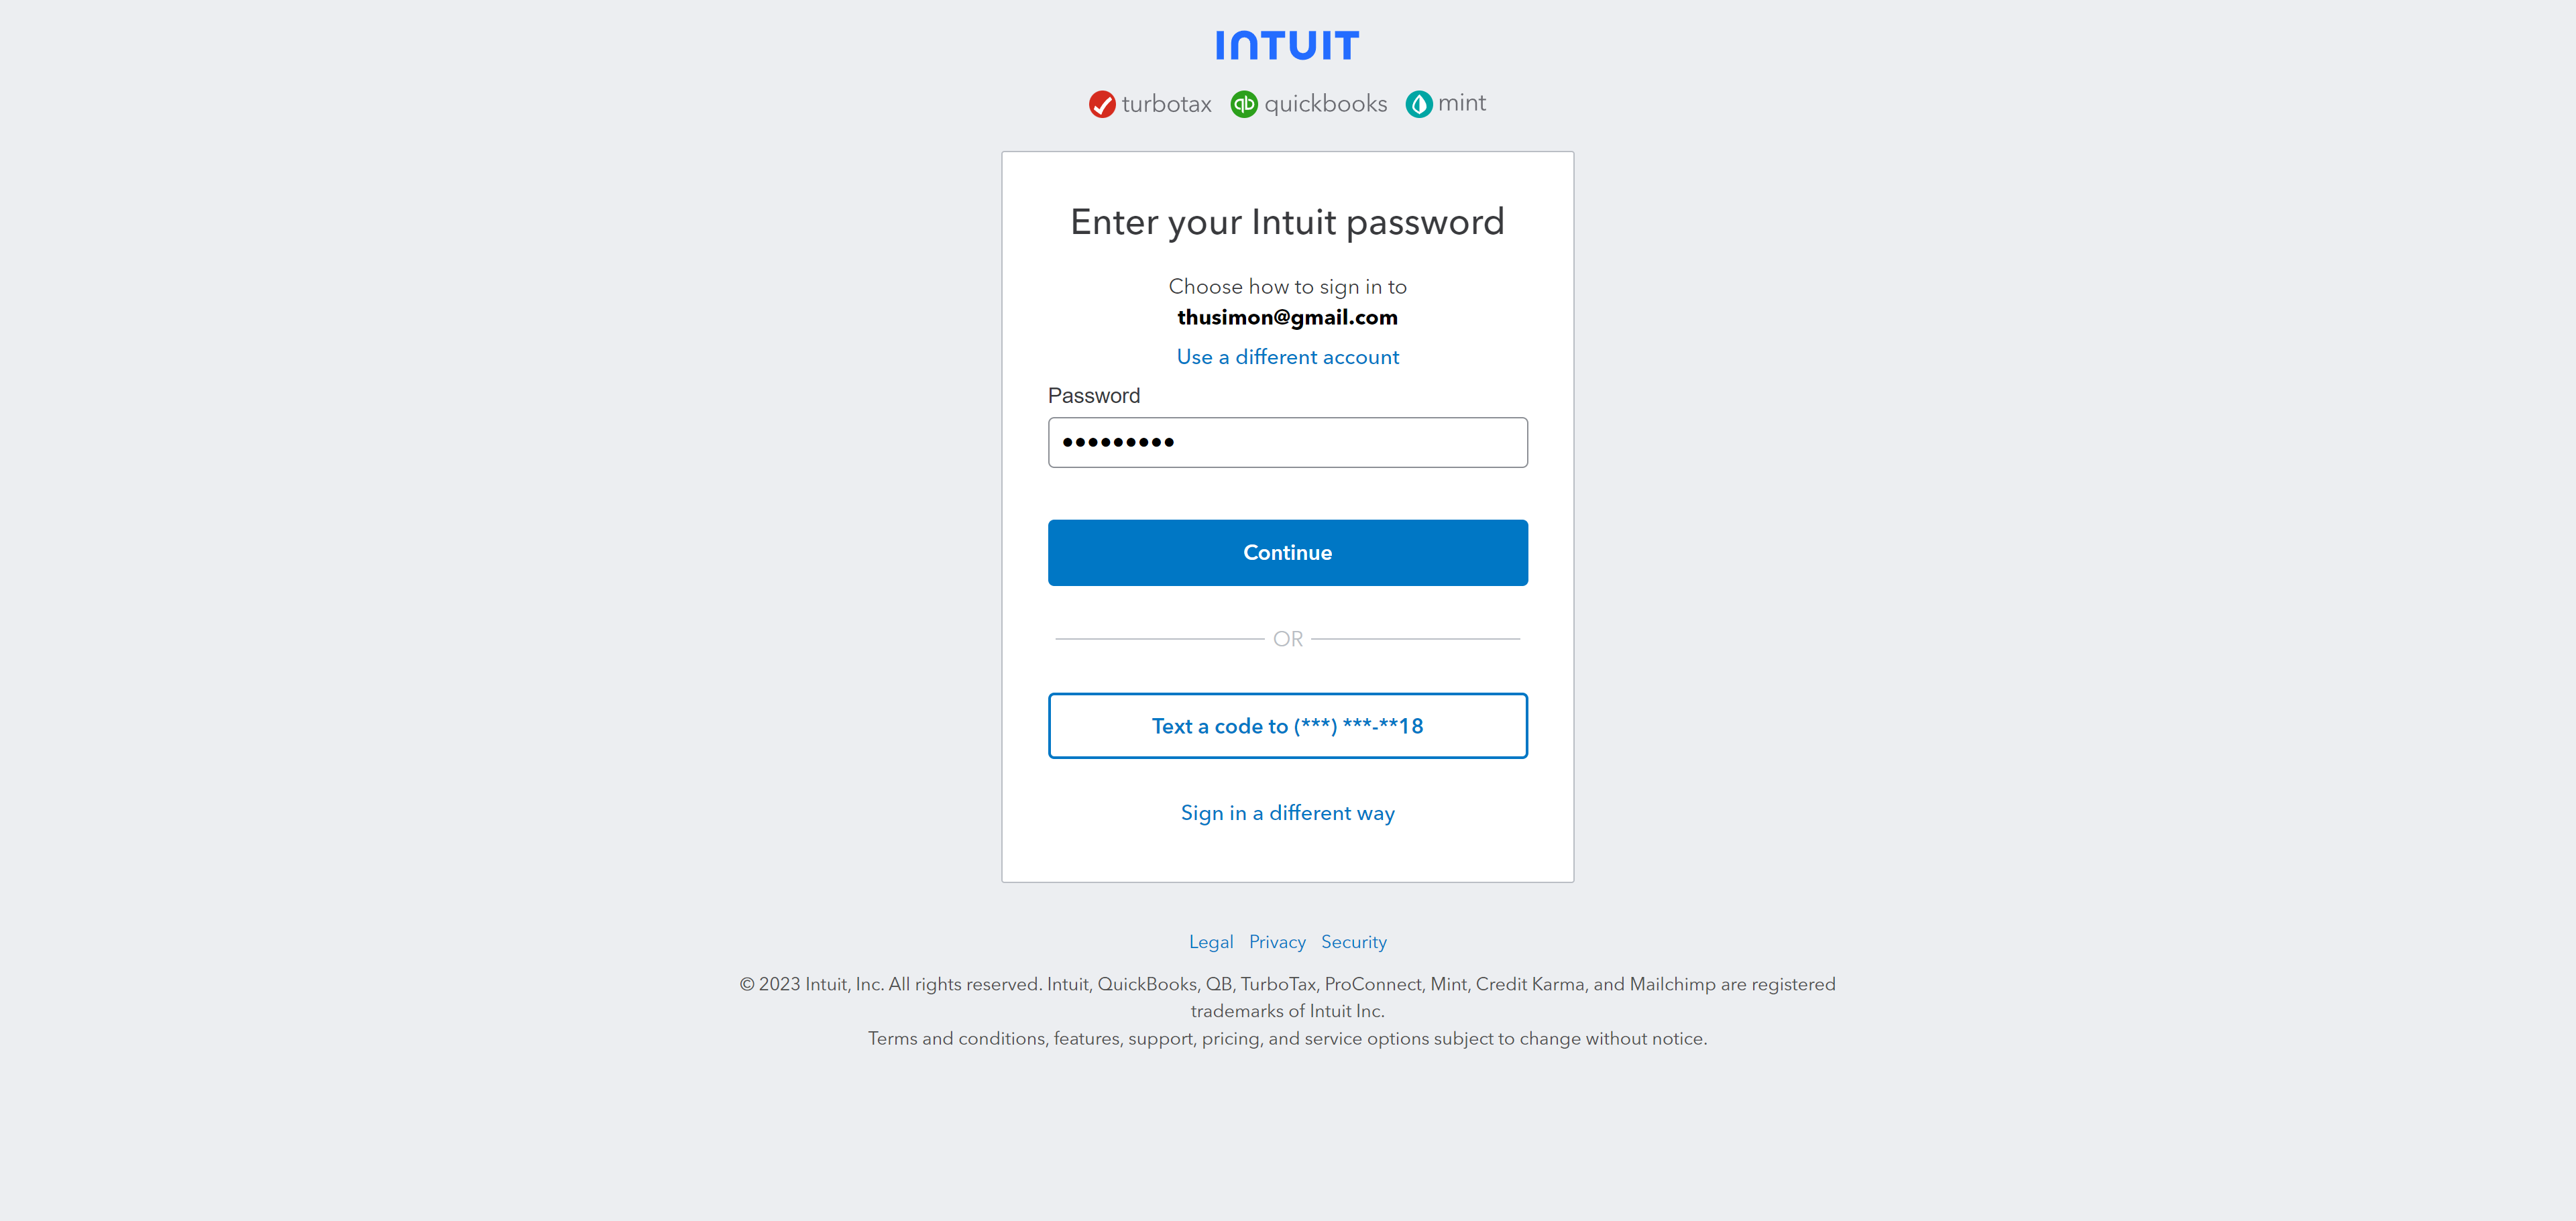login_button: (1048, 519, 1528, 587)
login_form: (1038, 378, 1539, 597)
